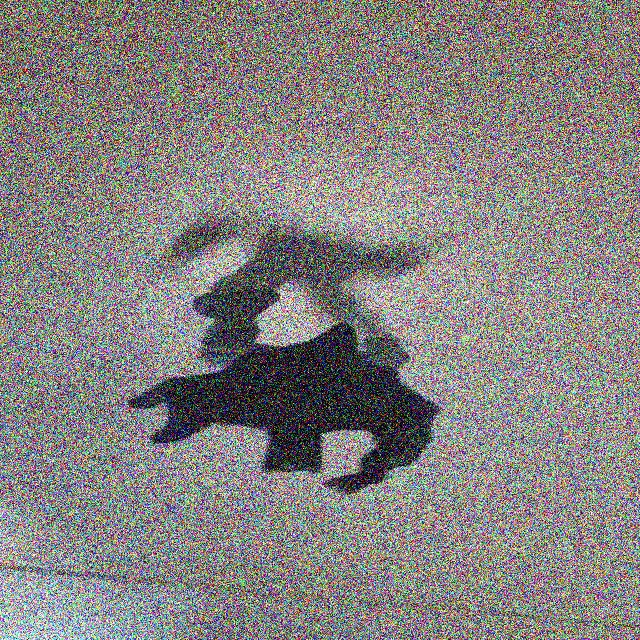Batman: (113, 290, 460, 496)
